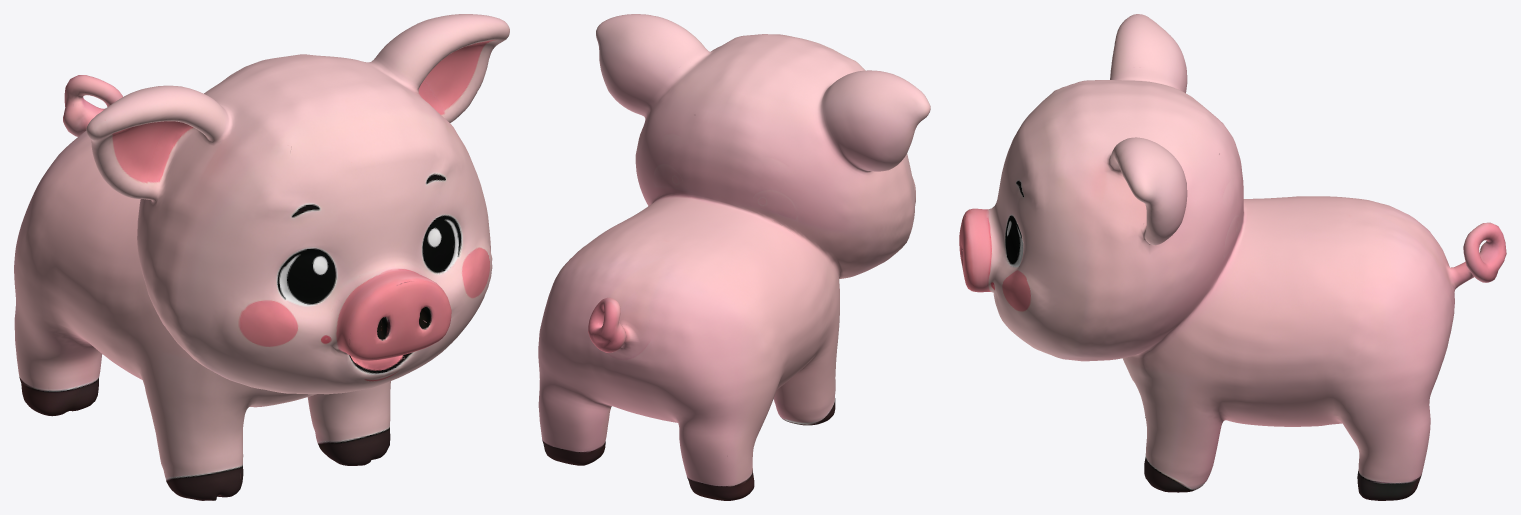
File: rosie-meshy-quadruped-v2.glb
The picture shows the model from 3 angles, left to right: view 1: azimuth 30°, elevation 25°; view 2: azimuth 150°, elevation 25°; view 3: azimuth 270°, elevation 25°; orthographic projection. The views are drawn at different scales.
Visible parts, largest first — view 1: Mesh_0; view 2: Mesh_0; view 3: Mesh_0.
Boxes of the visible parts, x1,y1,x2,y2 form: Mesh_0: [14, 14, 509, 500]; Mesh_0: [538, 14, 930, 500]; Mesh_0: [959, 14, 1506, 500].
Size of the model in its own units: 1.42 by 1.4 by 1.9.
Materials: 1 (1 with a texture image).
